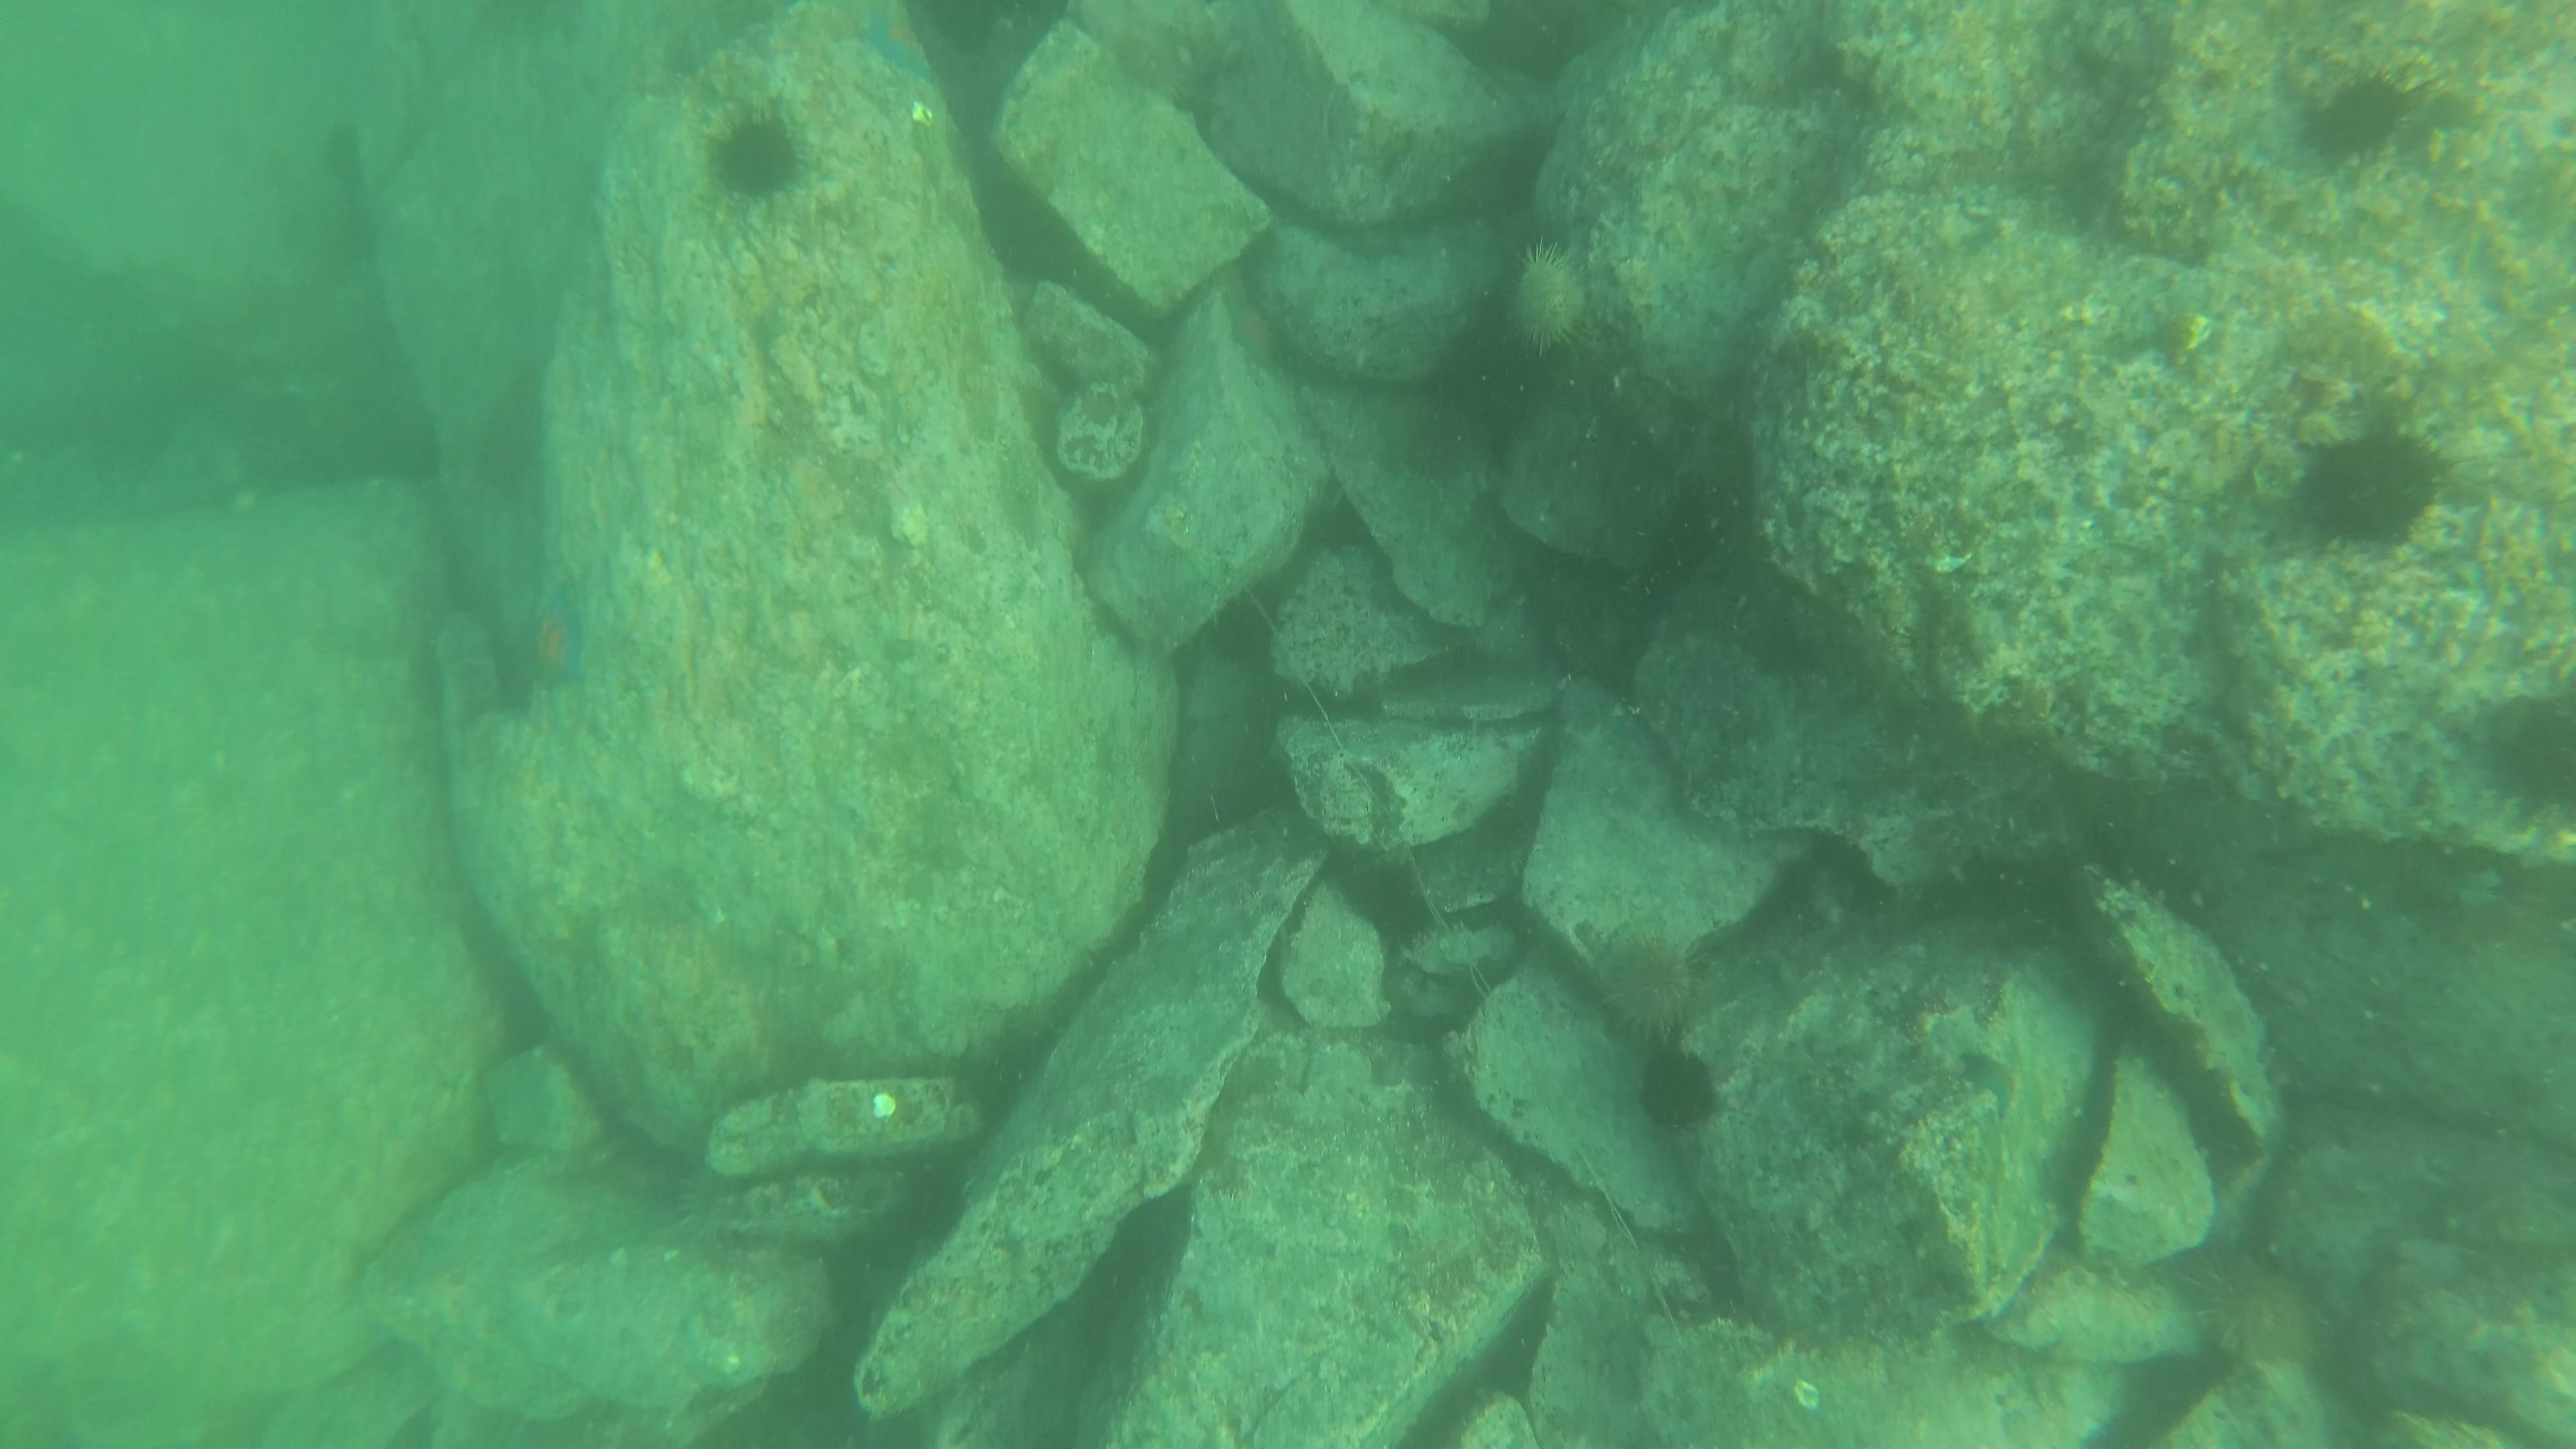echinus: (2289, 419, 2450, 554), (2181, 1244, 2332, 1378), (2468, 679, 2574, 828), (1587, 927, 1711, 1046), (2293, 65, 2422, 170), (1497, 235, 1601, 361), (699, 101, 814, 207), (1626, 1040, 1727, 1138)
starfish: (497, 571, 603, 702), (840, 2, 943, 87)
